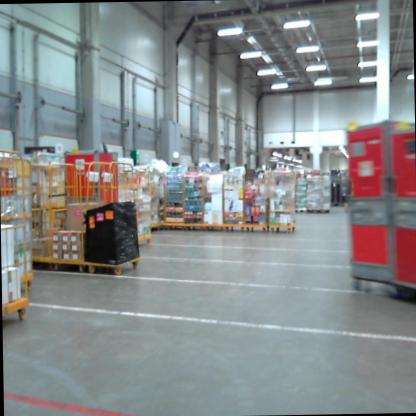pallet: (307, 207, 330, 214), (293, 207, 307, 214), (331, 203, 340, 208)
